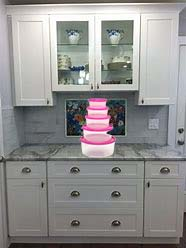copymove: (66, 25, 84, 47)
removal: (23, 107, 54, 134)
spliced: (81, 95, 114, 158)
